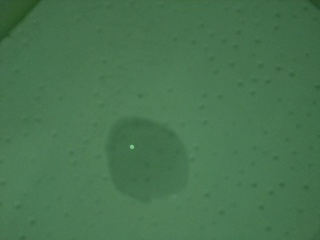Water_detected: (111, 128, 182, 191)
